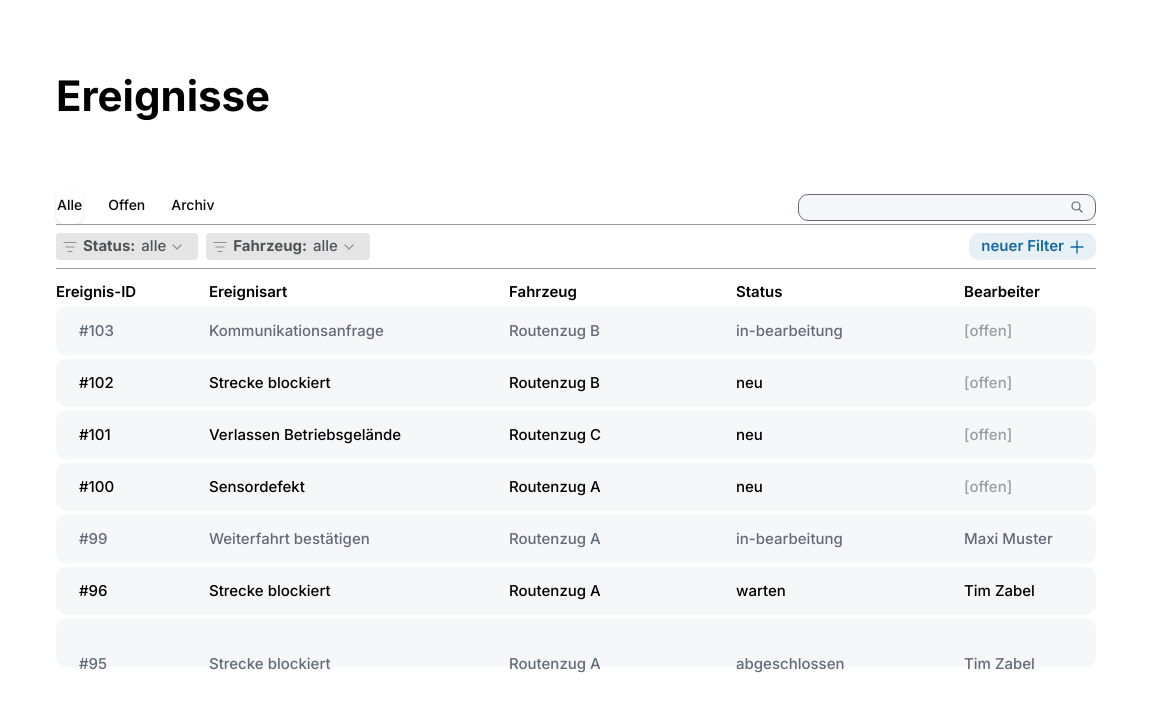
EreignissePage — FD-01: Filter-Dialog Integration › Klick auf 'neuer Filter' öffnet FilterDialog (Titel 'Filter' sichtbar)
What coordinates should you click on to do the following:
click the button "neuer Filter"
I would click on:
 (1033, 246)
Its box is [969,233,1096,260].
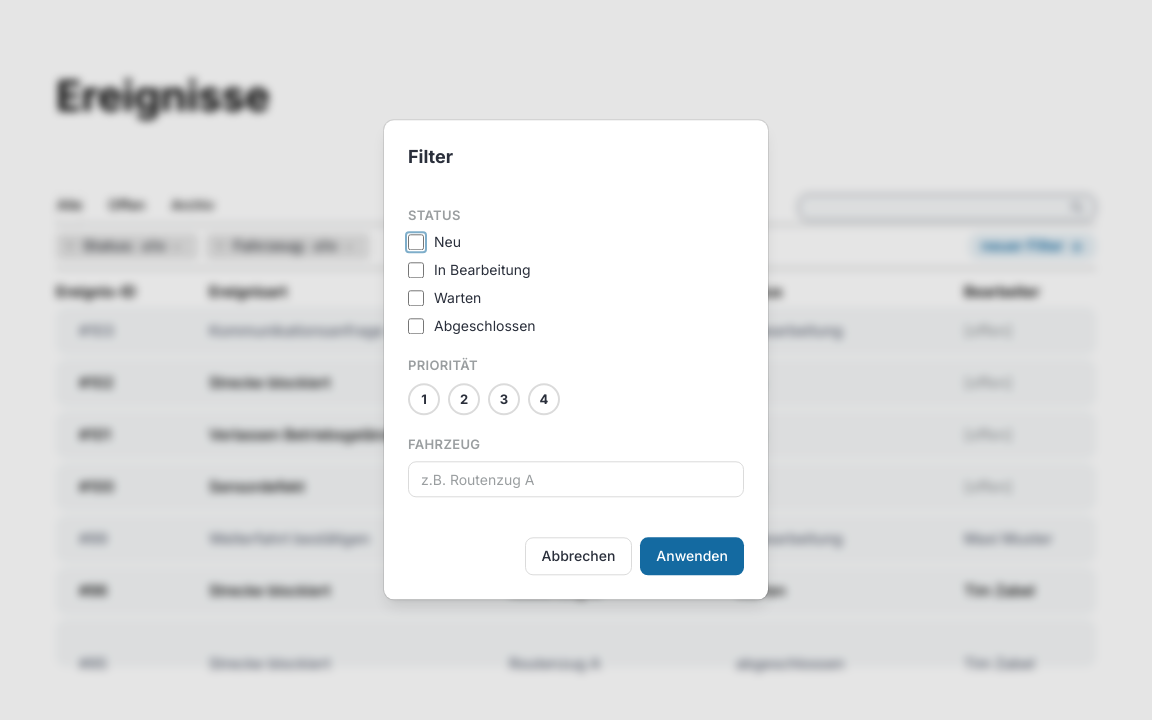
Result: the heading "Filter" is shown at [408,146,453,167]
